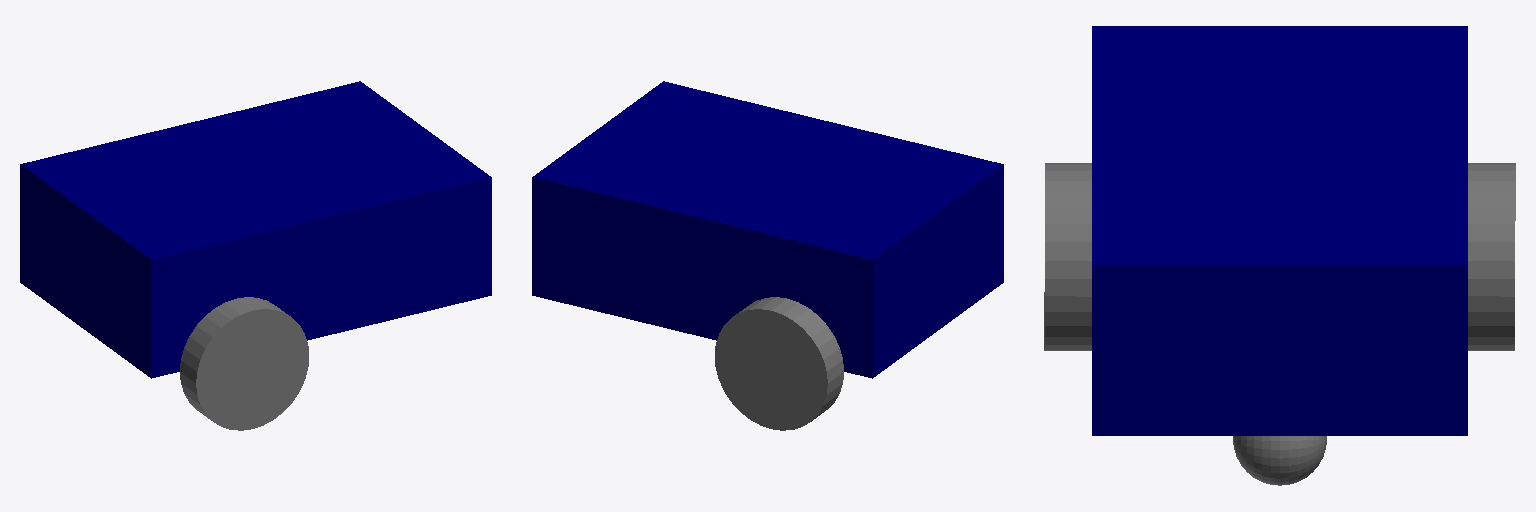
robot.urdf — MyRobot:
<?xml version="1.0"?>
<robot name="MyRobot">

    <material name="green">
        <color rgba="0.5 0 0 1" />
    </material>

    <material name="blue">
        <color rgba="0 0 0.5 1" />
    </material>

    <material name="grey">
        <color rgba="0.5 0.5 0.5 1" />
    </material>

    <link name="base_footprint"/>

    <link name="base_link">
        <visual>
            <geometry>
                <box size="0.6 0.4 0.2" />
            </geometry>
            <origin xyz="0 0 0.1" rpy="0 0 0" />
            <material name="blue" />
        </visual>
    </link>

    <link name="right_wheel_link">
        <visual>
            <geometry>
                <cylinder radius="0.1" length="0.05"/>
            </geometry>
            <origin xyz="0 0 0" rpy="1.57 0 0"/>
            <material name="grey"/>
        </visual>
    </link>

    <link name="left_wheel_link">
        <visual>
            <geometry>
                <cylinder radius="0.1" length="0.05"/>
            </geometry>
            <origin xyz="0 0 0" rpy="1.57 0 0"/>
            <material name="grey"/>
        </visual>
    </link>

    <link name="caster_wheel_link">
        <visual>
            <geometry>
                <sphere radius="0.05"/>
            </geometry>
            <origin xyz="0 0 0" rpy="1.57 0 0"/>
            <material name="grey"/>
        </visual>
    </link>

    <joint name="base_joint" type="fixed">
        <parent link="base_footprint" />
        <child link="base_link" />
        <origin xyz="0 0 0.1" rpy="0 0 0" />
    </joint>

    <joint name="base_right_wheel_joint" type="continuous">
        <parent link="base_link" />
        <child link="right_wheel_link" />
        <origin xyz="-0.15 -0.225 0" rpy="0 0 0" />
        <axis xyz="0 1 0"/>
    </joint>

    <joint name="base_left_wheel_joint" type="continuous">
        <parent link="base_link" />
        <child link="left_wheel_link" />
        <origin xyz="-0.15 0.225 0" rpy="0 0 0" />
        <axis xyz="0 1 0"/>
    </joint>

    <joint name="base_caster_wheel_joint" type="fixed">
        <parent link="base_link" />
        <child link="caster_wheel_link" />
        <origin xyz="0.2 0 -0.05" rpy="0 0 0" />
    </joint>

</robot>

--- Render facts (derived) ---
The picture shows the robot from 3 angles, left to right: view 1: azimuth 30°, elevation 25°; view 2: azimuth 150°, elevation 25°; view 3: azimuth 270°, elevation 25°; orthographic projection.
Robot: MyRobot — 5 links, 4 joints (2 continuous, 2 fixed); root link base_footprint; default pose: every joint at zero.
Visible links, largest first — view 1: base_link, right_wheel_link; view 2: base_link, left_wheel_link; view 3: base_link, right_wheel_link, left_wheel_link, caster_wheel_link.
Boxes of the visible links, box(x1,y1,x2,y2) form: base_link: box(20, 81, 491, 378); right_wheel_link: box(180, 297, 308, 430); base_link: box(532, 81, 1003, 378); left_wheel_link: box(715, 297, 843, 430); base_link: box(1092, 26, 1467, 435); right_wheel_link: box(1044, 163, 1091, 350); left_wheel_link: box(1468, 163, 1515, 350); caster_wheel_link: box(1233, 436, 1326, 485).
Size in the robot's own frame: 0.6 by 0.5002 by 0.3 metres.
Geometry: primitives only (box / cylinder / sphere), no mesh files.
